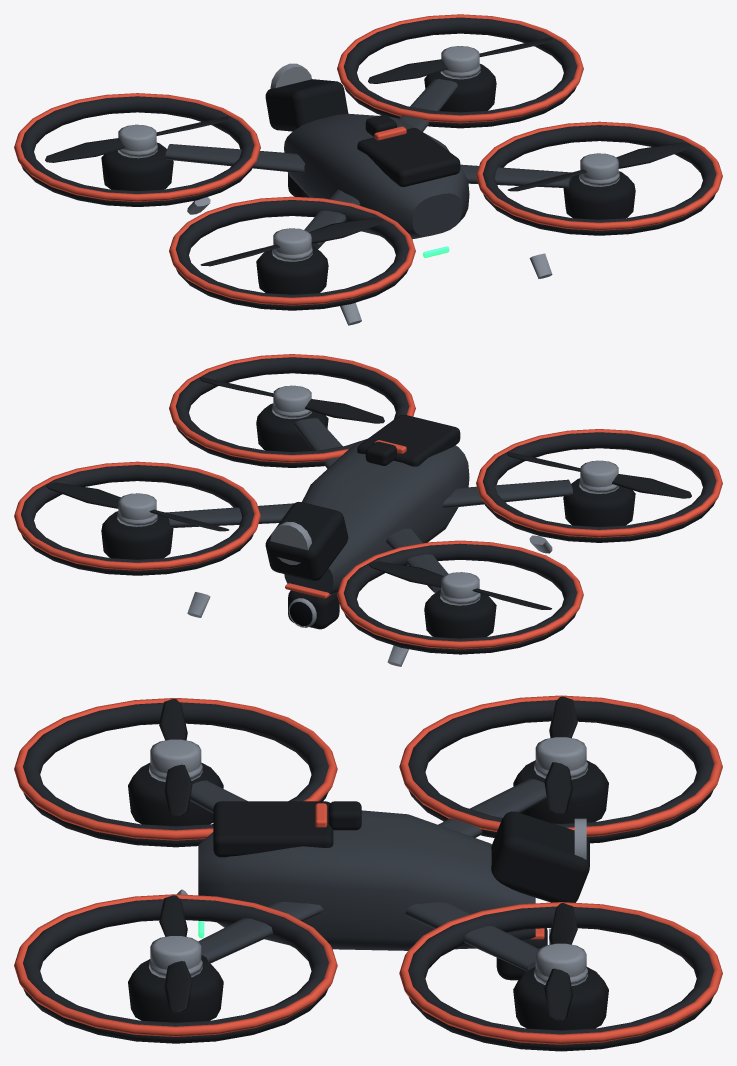
File: fpv.glb
The picture shows the model from 3 angles, top to bottom: view 1: azimuth 30°, elevation 25°; view 2: azimuth 150°, elevation 25°; view 3: azimuth 270°, elevation 25°; orthographic projection. The views are drawn at different scales.
Parts seen in each view (by area): view 1: m-fpv-duct, m-fpv-dark, m-fpv-shell, m-fpv-accent, m-fpv-metal, m-prop_2-rotor, m-prop_4-rotor, m-prop_1-rotor, m-prop_3-rotor, m-gear-metal; view 2: m-fpv-duct, m-fpv-shell, m-fpv-dark, m-fpv-accent, m-fpv-metal, m-prop_1-rotor, m-prop_3-rotor, m-prop_2-rotor, m-prop_4-rotor, m-gimbal-dark, m-gear-metal; view 3: m-fpv-duct, m-fpv-shell, m-fpv-dark, m-fpv-accent, m-fpv-metal, m-prop_2-rotor, m-prop_1-rotor, m-prop_3-rotor, m-prop_4-rotor, m-gimbal-dark.
Part boxes in pixels (box(x1,y1,x2,y2)): m-fpv-duct: box(21, 17, 715, 310); m-fpv-dark: box(101, 64, 635, 294); m-fpv-shell: box(165, 79, 571, 248); m-fpv-accent: box(14, 14, 722, 305); m-fpv-metal: box(117, 46, 619, 261); m-prop_2-rotor: box(368, 37, 552, 83); m-prop_4-rotor: box(45, 116, 229, 162); m-prop_1-rotor: box(508, 142, 691, 191); m-prop_3-rotor: box(200, 217, 383, 266); m-gear-metal: box(187, 197, 552, 325); m-fpv-duct: box(21, 357, 715, 654); m-fpv-shell: box(166, 418, 572, 594); m-fpv-dark: box(101, 403, 635, 638); m-fpv-accent: box(14, 354, 722, 649); m-fpv-metal: box(117, 385, 619, 605); m-prop_1-rotor: box(200, 377, 384, 423); m-prop_3-rotor: box(507, 452, 691, 498); m-prop_2-rotor: box(45, 482, 228, 531); m-prop_4-rotor: box(368, 561, 551, 609); m-gimbal-dark: box(288, 590, 339, 629); m-gear-metal: box(187, 535, 552, 666); m-fpv-duct: box(23, 700, 713, 1051); m-fpv-shell: box(190, 778, 546, 970); m-fpv-dark: box(128, 760, 608, 1030); m-fpv-accent: box(14, 695, 722, 1044); m-fpv-metal: box(149, 737, 587, 986); m-prop_2-rotor: box(544, 903, 577, 1021); m-prop_1-rotor: box(159, 895, 192, 1013); m-prop_3-rotor: box(159, 699, 192, 817); m-prop_4-rotor: box(544, 696, 577, 814); m-gimbal-dark: box(496, 928, 547, 980).
Bounding box in the file's own units: 0.542 × 0.1279 × 0.473.
